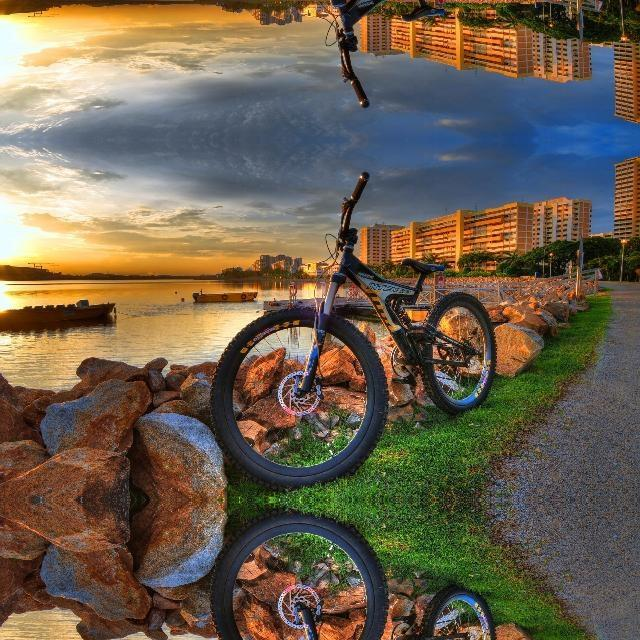obstacle: (199, 181, 521, 487), (199, 513, 521, 640), (199, 0, 521, 99)
